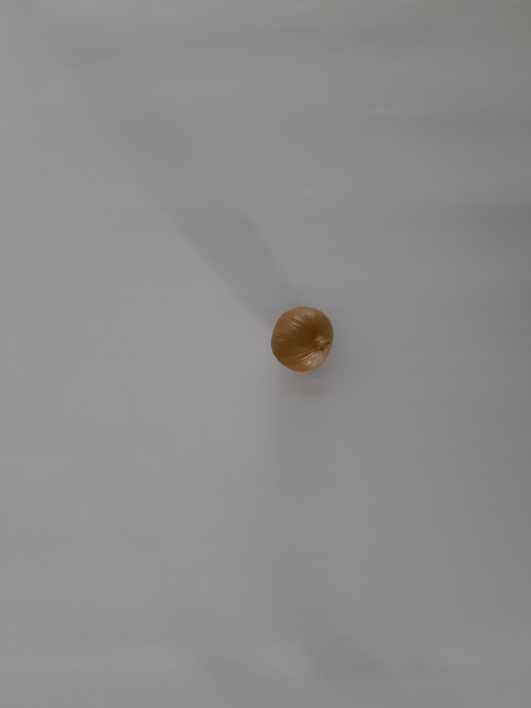onion: (256, 294, 359, 379)
